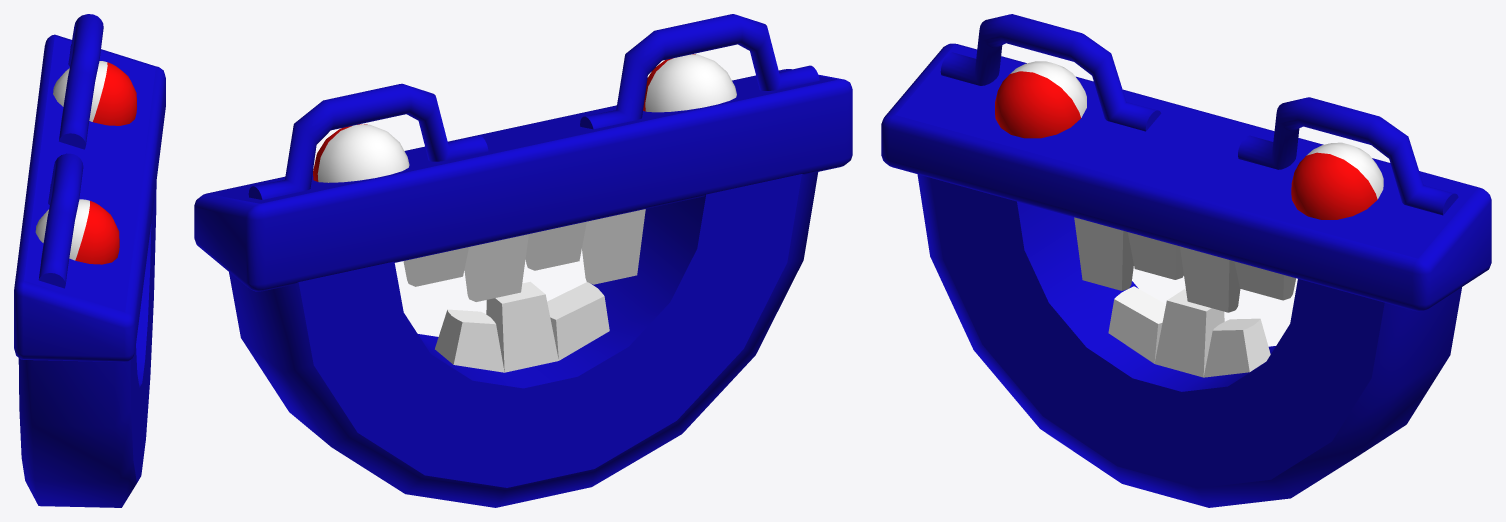
3 views of the same model, side by side, from view 1: azimuth 30°, elevation 25°; view 2: azimuth 150°, elevation 25°; view 3: azimuth 270°, elevation 25° (orthographic). The views are drawn at different scales.
Visible parts, largest first — view 1: BoîteChanfrein005, Tube050, Cylindre028, Sphère097, Sphère096; view 2: Tube050, BoîteChanfrein005, Cylindre028, Sphère096, Sphère097; view 3: Tube050, BoîteChanfrein005, Cylindre028, Sphère097, Sphère096.
Part boxes in pixels (bbox=[...]): BoîteChanfrein005: bbox=[14, 34, 165, 362]; Tube050: bbox=[18, 182, 156, 507]; Cylindre028: bbox=[38, 14, 103, 288]; Sphère097: bbox=[35, 199, 119, 264]; Sphère096: bbox=[53, 61, 136, 125]; Tube050: bbox=[229, 172, 818, 507]; BoîteChanfrein005: bbox=[194, 69, 852, 301]; Cylindre028: bbox=[248, 14, 819, 199]; Sphère096: bbox=[313, 124, 409, 182]; Sphère097: bbox=[643, 54, 736, 112]; Tube050: bbox=[917, 174, 1461, 507]; BoîteChanfrein005: bbox=[881, 43, 1491, 312]; Cylindre028: bbox=[940, 14, 1458, 215]; Sphère097: bbox=[995, 61, 1086, 138]; Sphère096: bbox=[1291, 142, 1383, 219].
Bounding box in the file's own units: 34.76 × 34.45 × 46.58.
